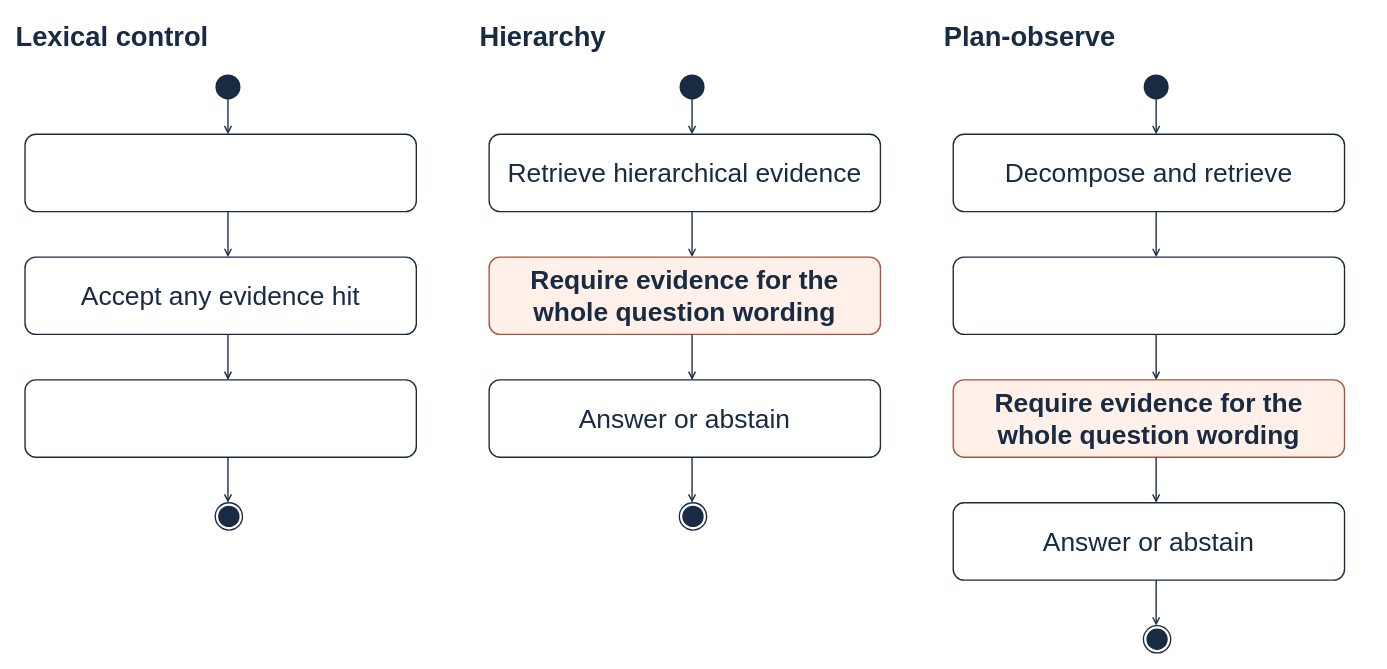
Some shapes in this 1387 by 669 pixel diagram are drawn without their labels. Each missing label, with the box of its shape:
Combine retrieval observations: (952, 256, 1345, 335)
Extract a source response: (24, 379, 417, 458)
Retrieve keyword matches: (24, 133, 417, 212)
